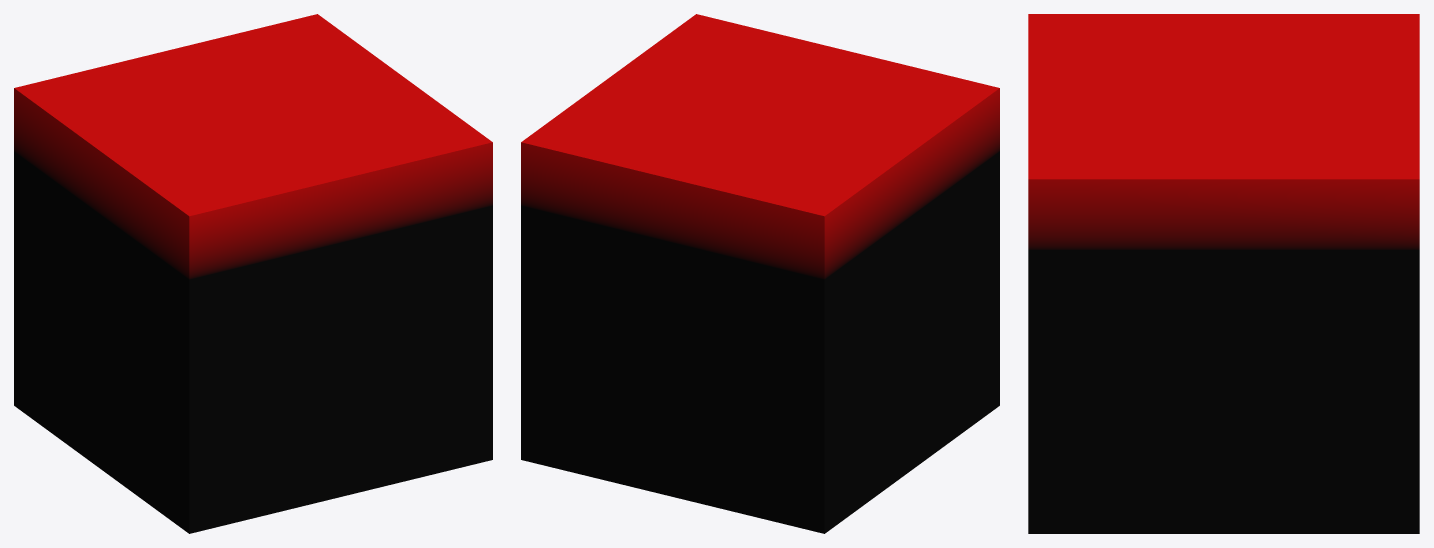
Rendered from GroundPlatform.fbx.
The picture shows the model from 3 angles, left to right: view 1: azimuth 30°, elevation 25°; view 2: azimuth 150°, elevation 25°; view 3: azimuth 270°, elevation 25°; orthographic projection. The views are drawn at different scales.
Visible parts, largest first — view 1: GroundPlatform; view 2: GroundPlatform; view 3: GroundPlatform.
Part boxes in pixels (box(x1,y1,x2,y2)): GroundPlatform: box(14, 14, 492, 533); GroundPlatform: box(521, 14, 999, 533); GroundPlatform: box(1028, 14, 1419, 533).
Bounding box in the file's own units: 1 × 1 × 1.
